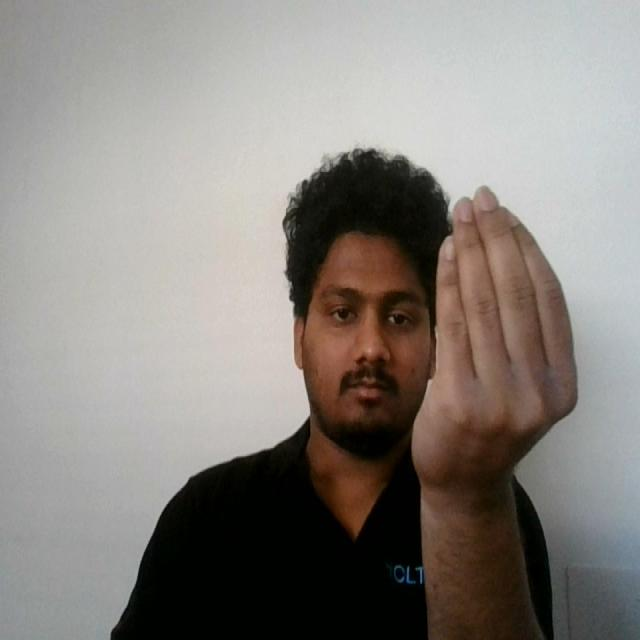Please: (399, 178, 588, 503)
